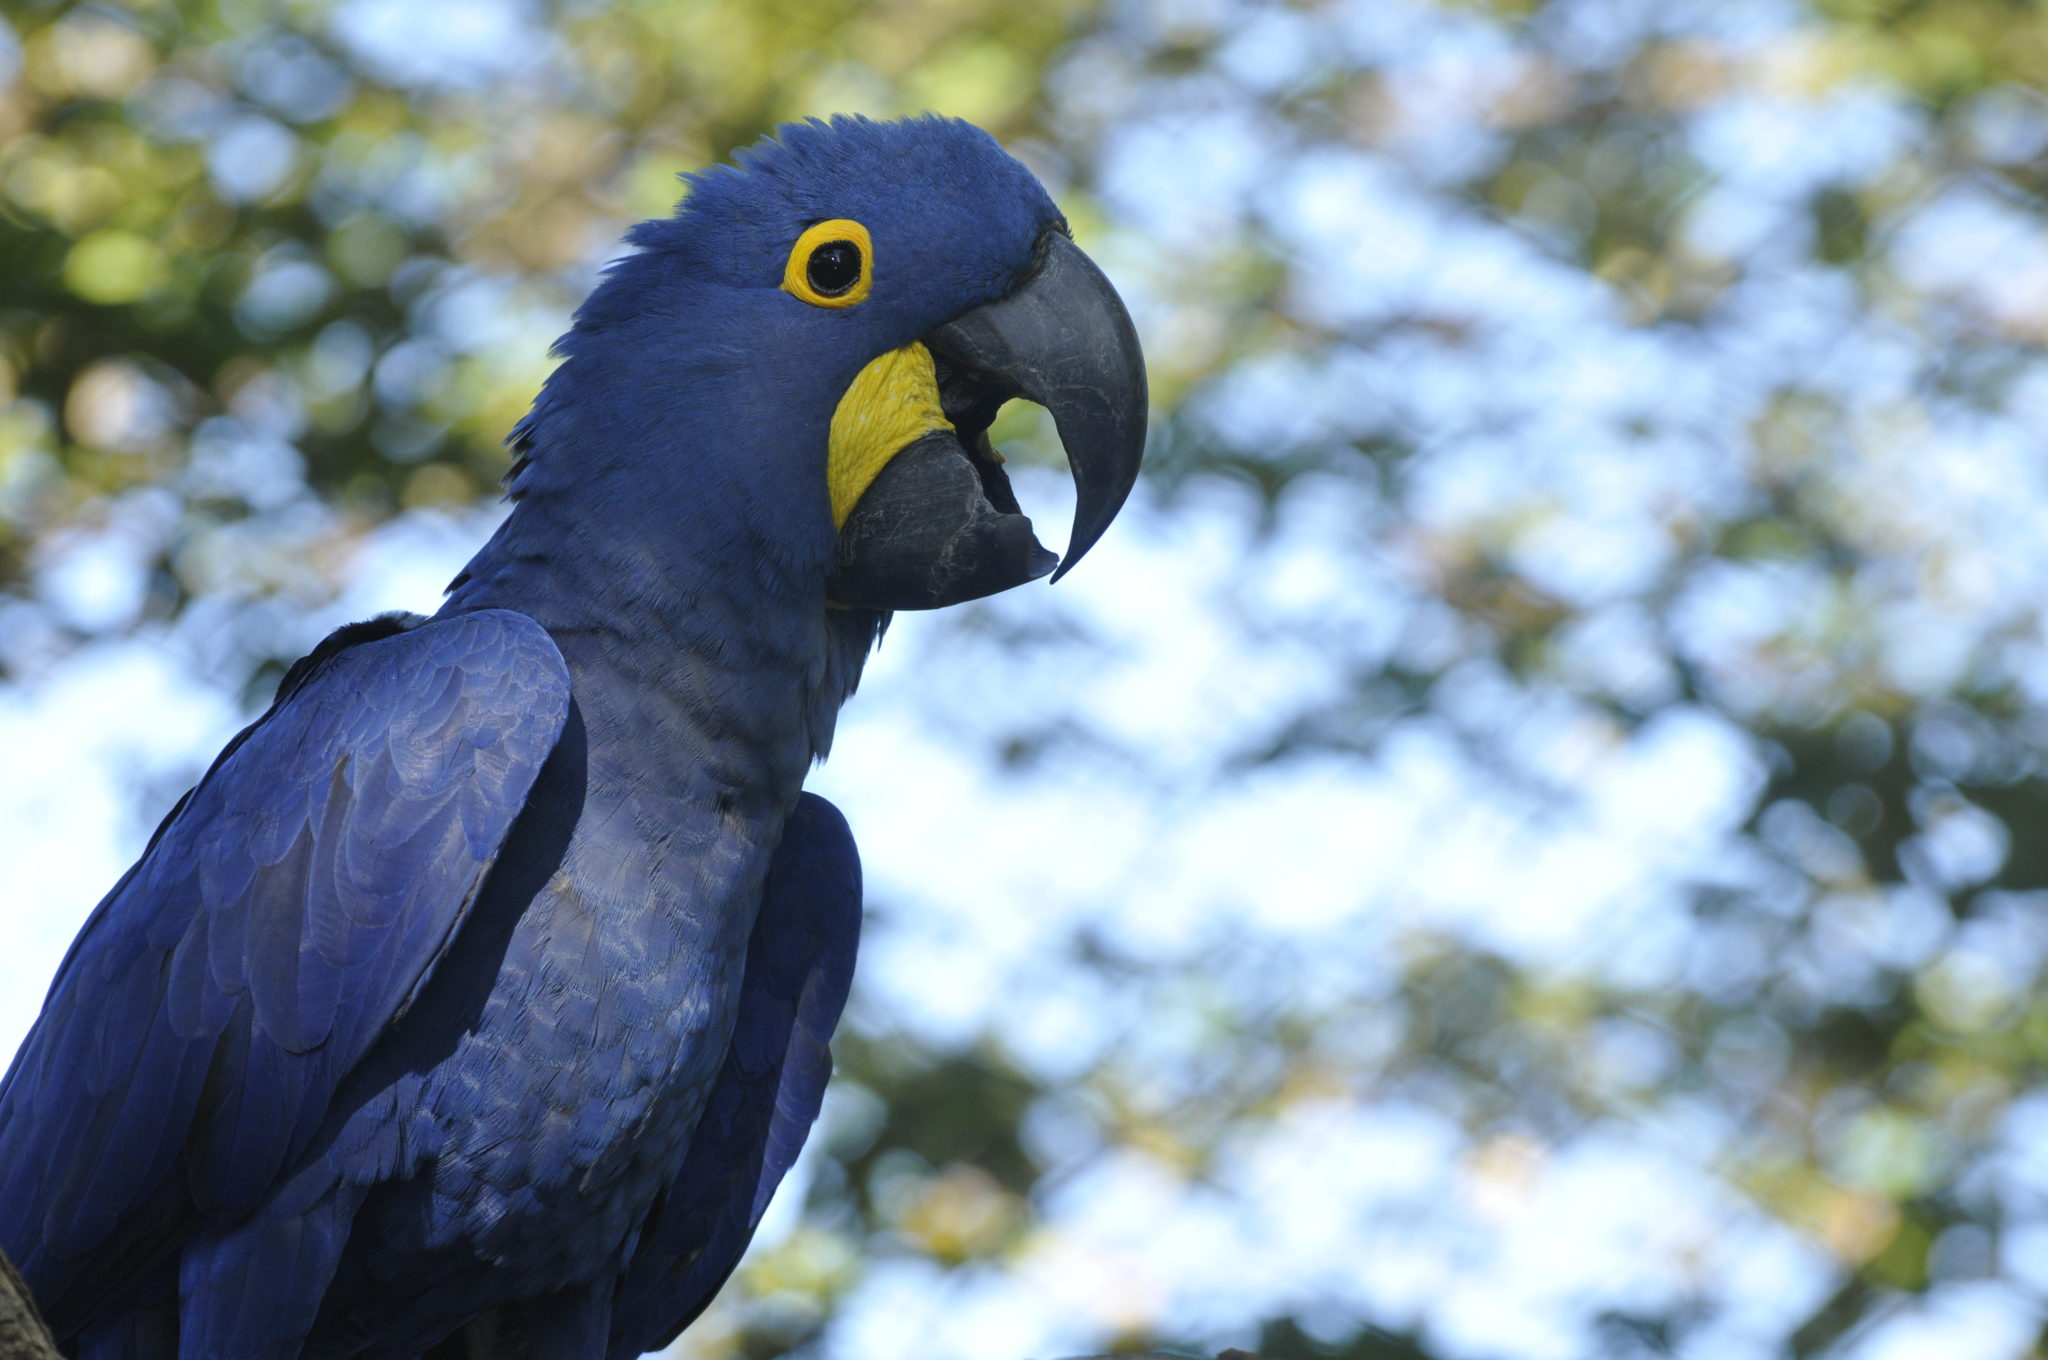guacamaya: (8, 80, 1173, 1299)
